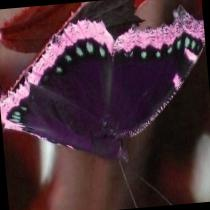butterfly: (0, 5, 205, 159)
